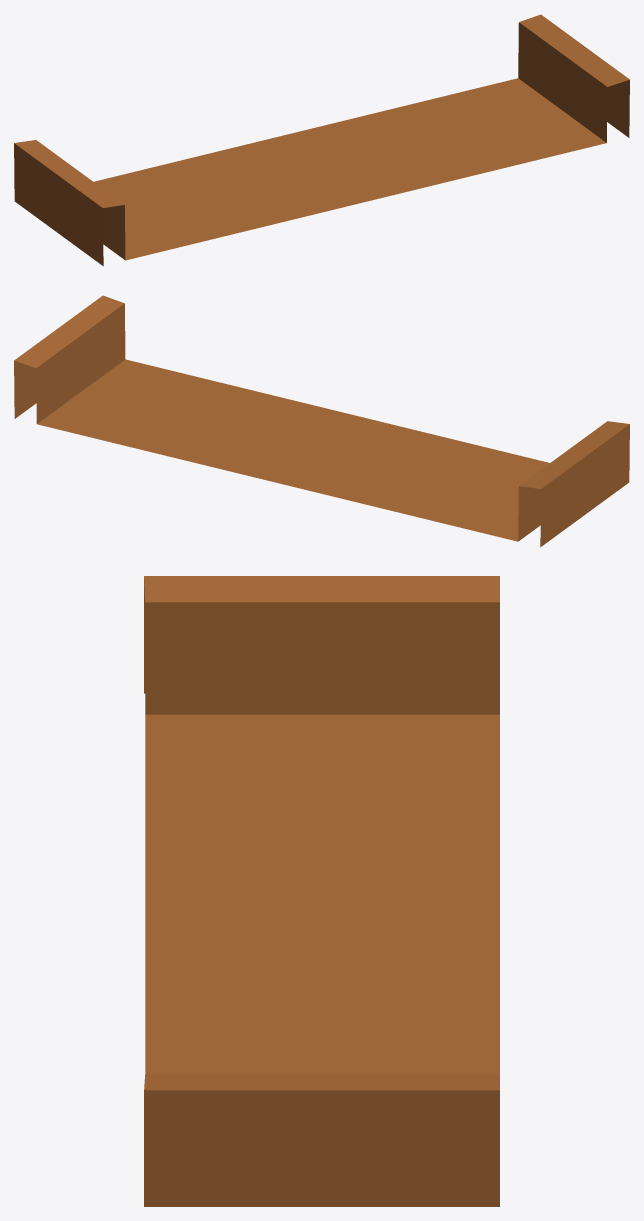
File: ship_segment_top.fbx
3 views of the same model, one above another, from view 1: azimuth 30°, elevation 25°; view 2: azimuth 150°, elevation 25°; view 3: azimuth 270°, elevation 25° (orthographic). The views are drawn at different scales.
Visible parts, largest first — view 1: ship_top_segment; view 2: ship_top_segment; view 3: ship_top_segment.
Part boxes in pixels (x1=…): ship_top_segment: x1=14, y1=14, x2=629, y2=266; ship_top_segment: x1=14, y1=295, x2=629, y2=547; ship_top_segment: x1=144, y1=576, x2=499, y2=1206.
Size of the model in its own units: 3.42 by 0.3628 by 1.
